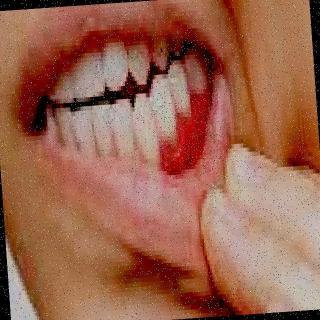Gum Swelling: (162, 93, 211, 175)
